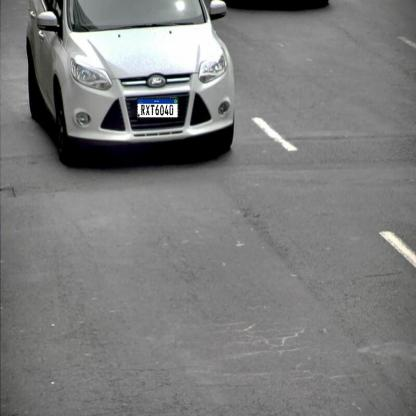PlacaM: (137, 98, 178, 119)
